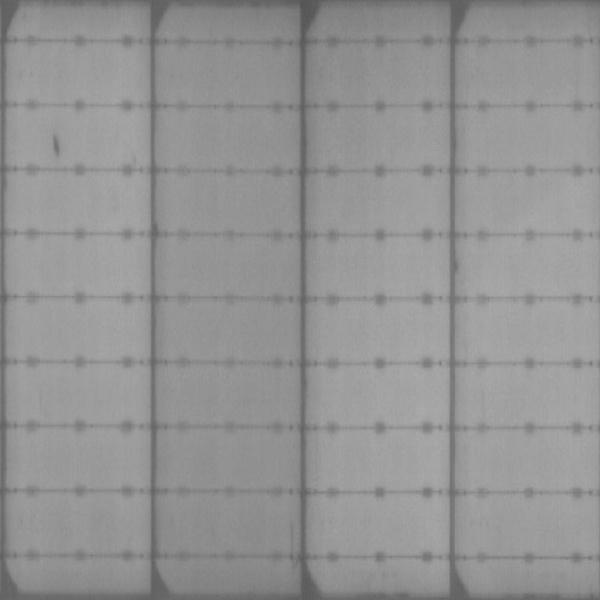scratch: (50, 134, 62, 163)
